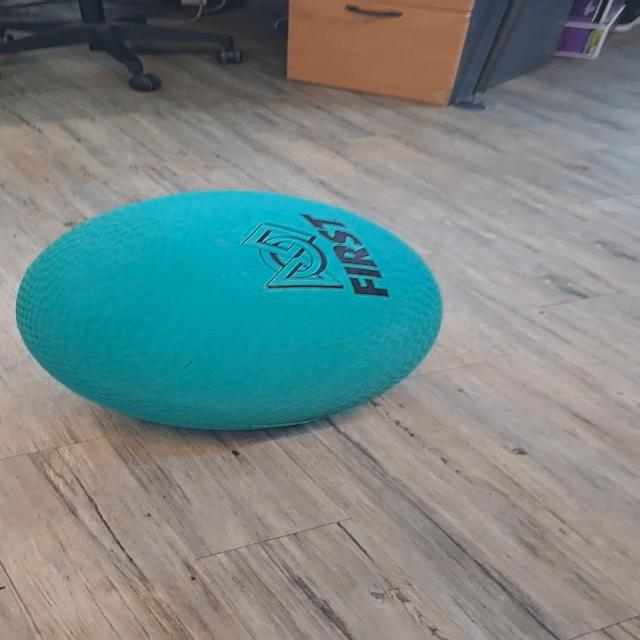ALGAE: (13, 188, 444, 432)
